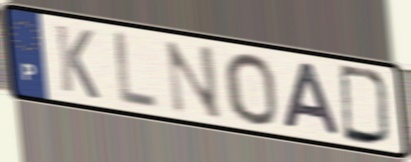A: (281, 59, 344, 140)
D: (336, 61, 395, 149)
K: (53, 21, 102, 103)
L: (112, 28, 159, 113)
N: (162, 38, 224, 122)
O: (221, 50, 281, 128)
